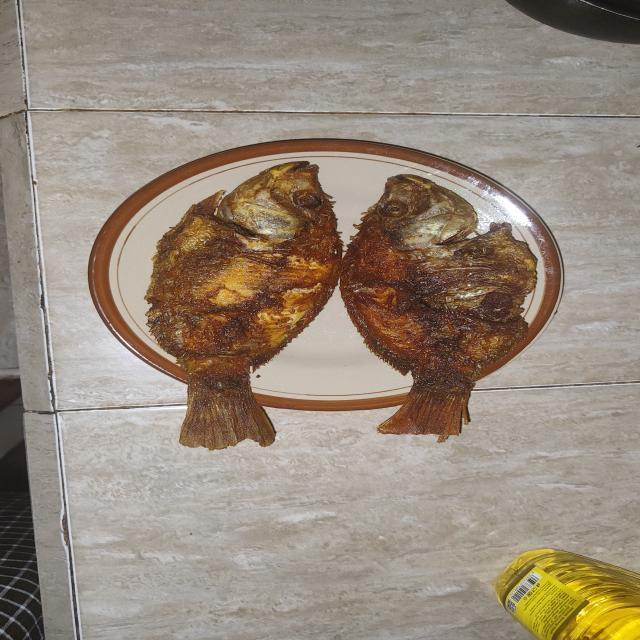ikan_mujair: (145, 161, 342, 450), (339, 175, 536, 442)
